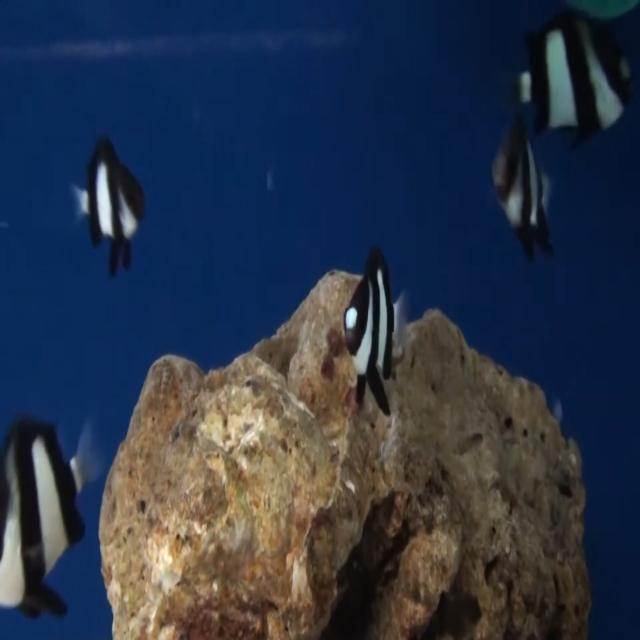ThreeStripedDamselfish: (0, 420, 105, 616), (508, 1, 640, 140), (73, 136, 146, 277), (344, 247, 404, 417)
